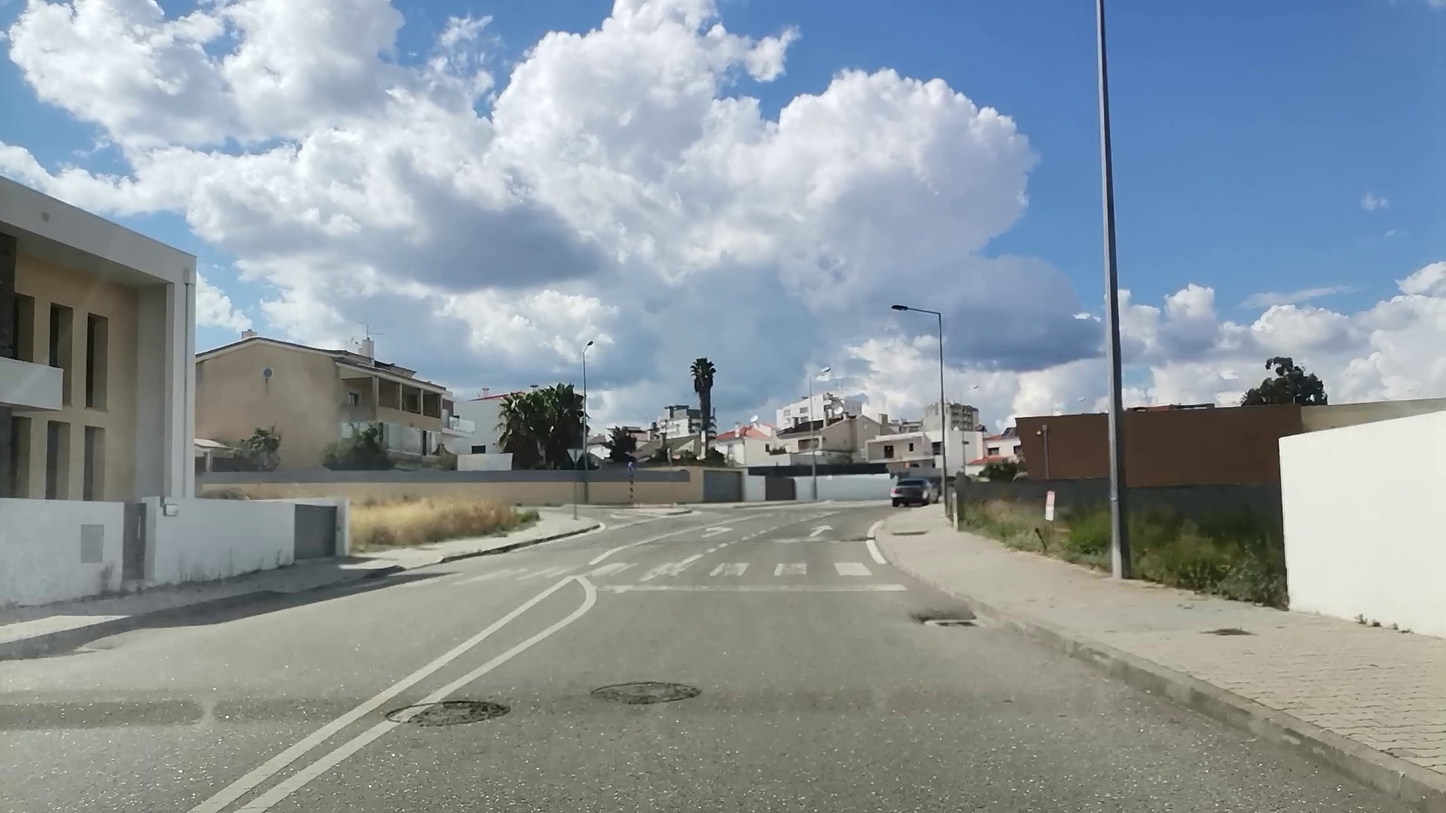Stairs: (374, 559, 875, 584)
